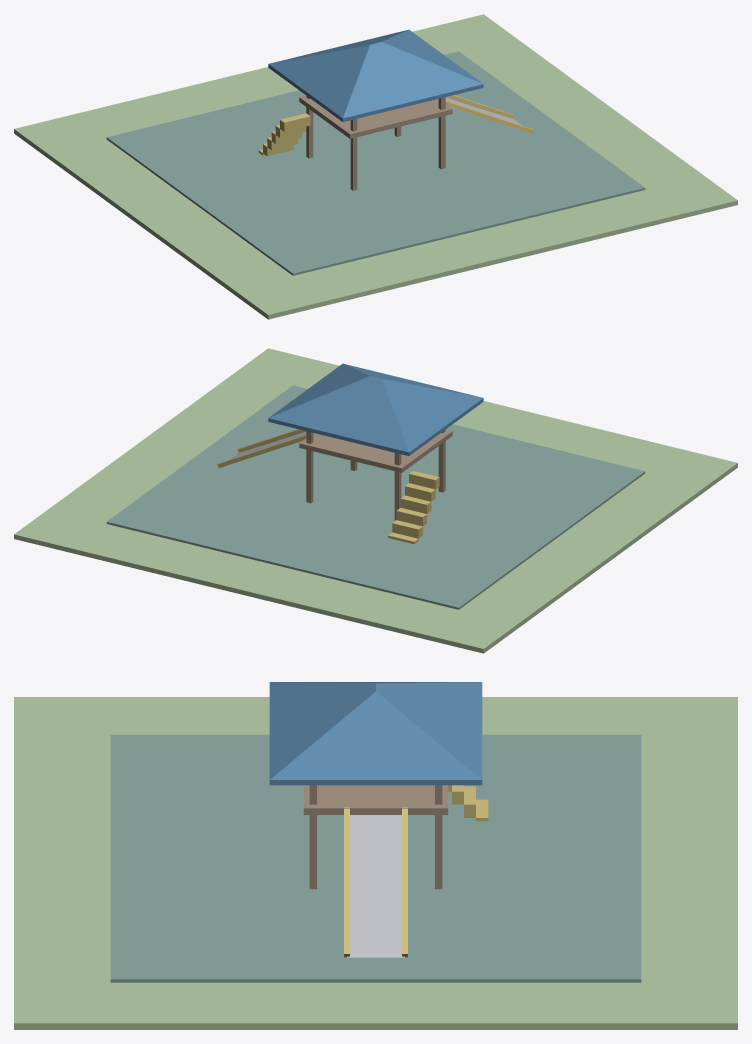
Rendered from 16_parks_greenery-03.glb.
3 renders of one model, top to bottom at view 1: azimuth 30°, elevation 25°; view 2: azimuth 150°, elevation 25°; view 3: azimuth 270°, elevation 25°, orthographic. The views are drawn at different scales.
Size of the model in its own units: 16 by 4.1 by 15.
